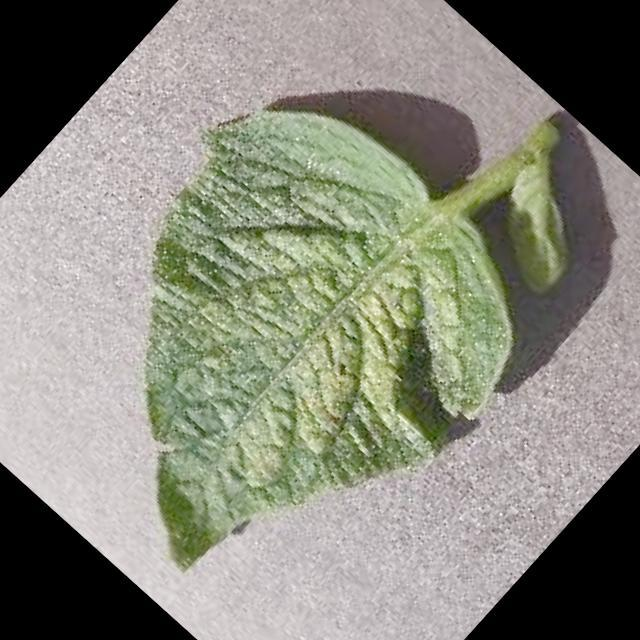Tomato spider mites leaf: (0, 56, 570, 640)
